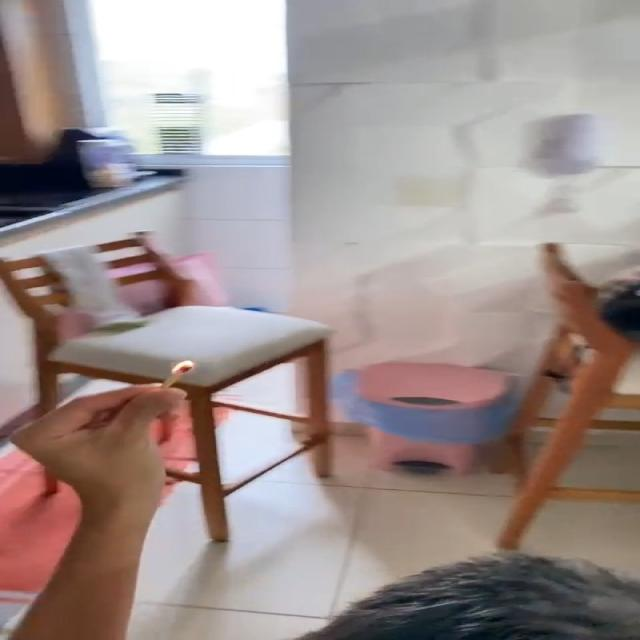fogo-ypXI: (170, 358, 195, 376)
